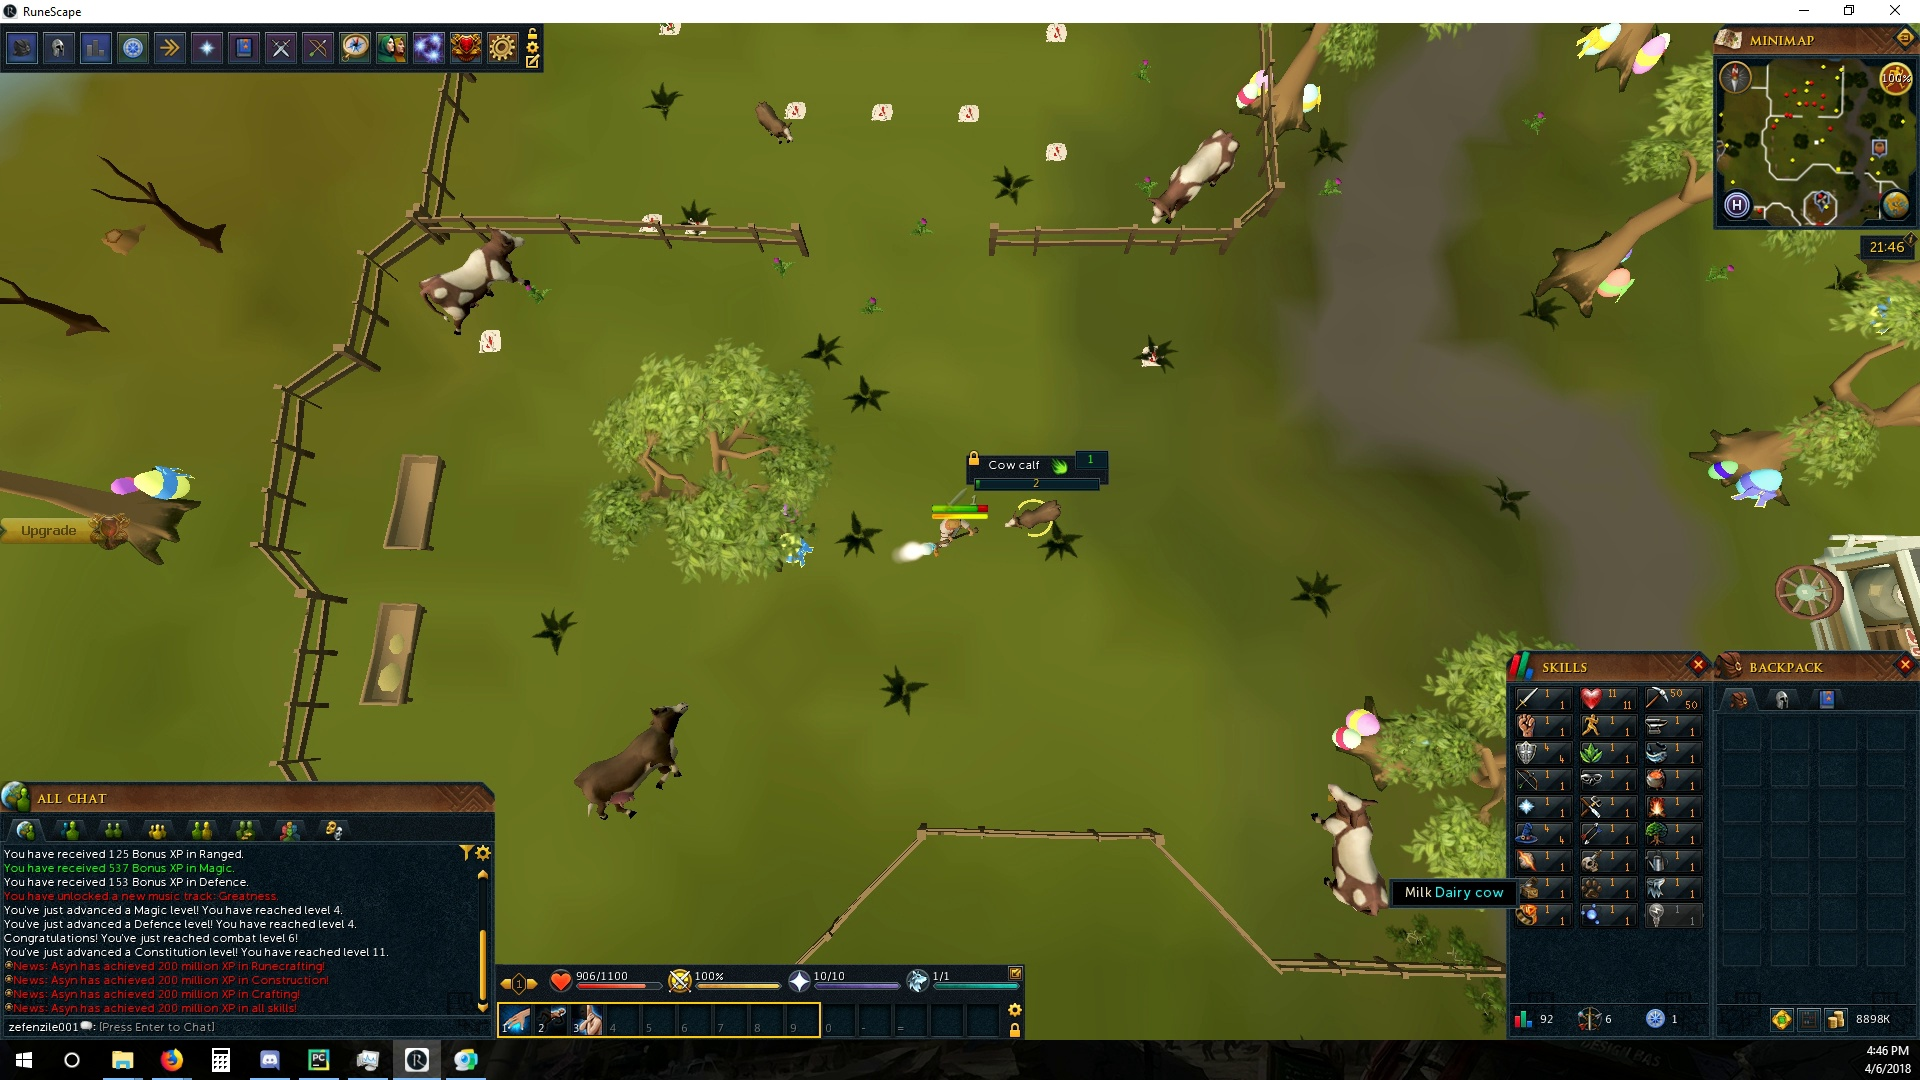calf: (1002, 498, 1073, 535), (752, 95, 795, 142)
cow: (568, 698, 695, 823), (417, 222, 531, 339), (1307, 782, 1394, 919), (1145, 124, 1242, 225)
cow_drop: (1131, 342, 1171, 375), (475, 326, 502, 363), (632, 211, 666, 236), (1040, 22, 1073, 47), (953, 102, 984, 127), (1039, 138, 1069, 164), (787, 96, 814, 123), (868, 102, 891, 124)
